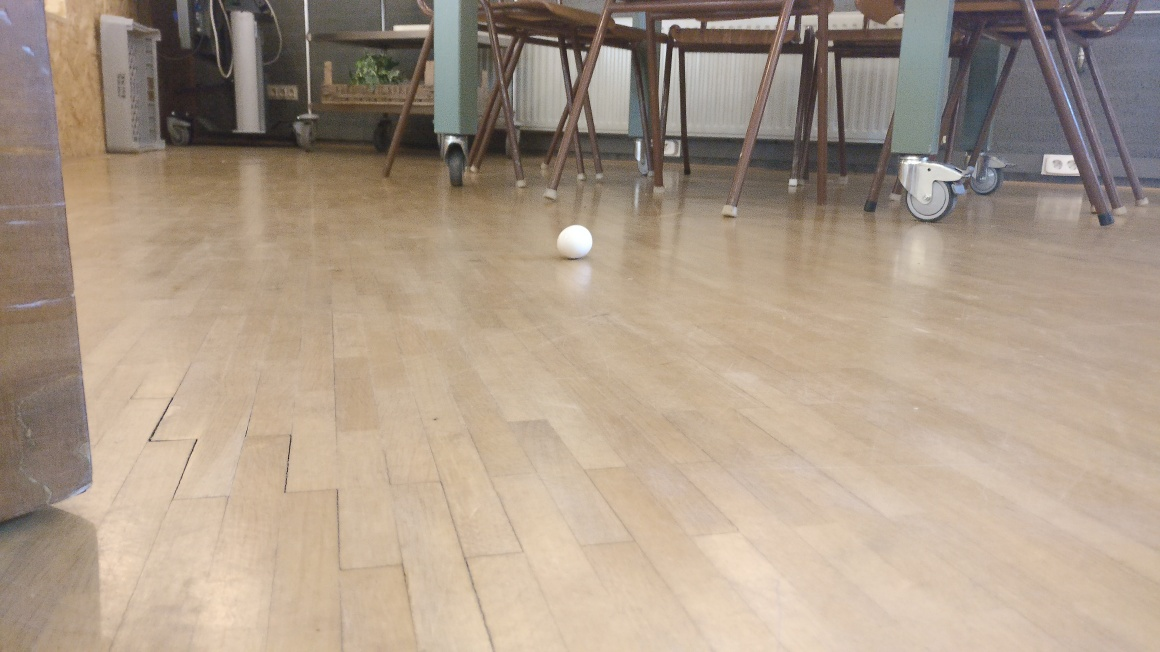egg: (556, 224, 593, 259)
